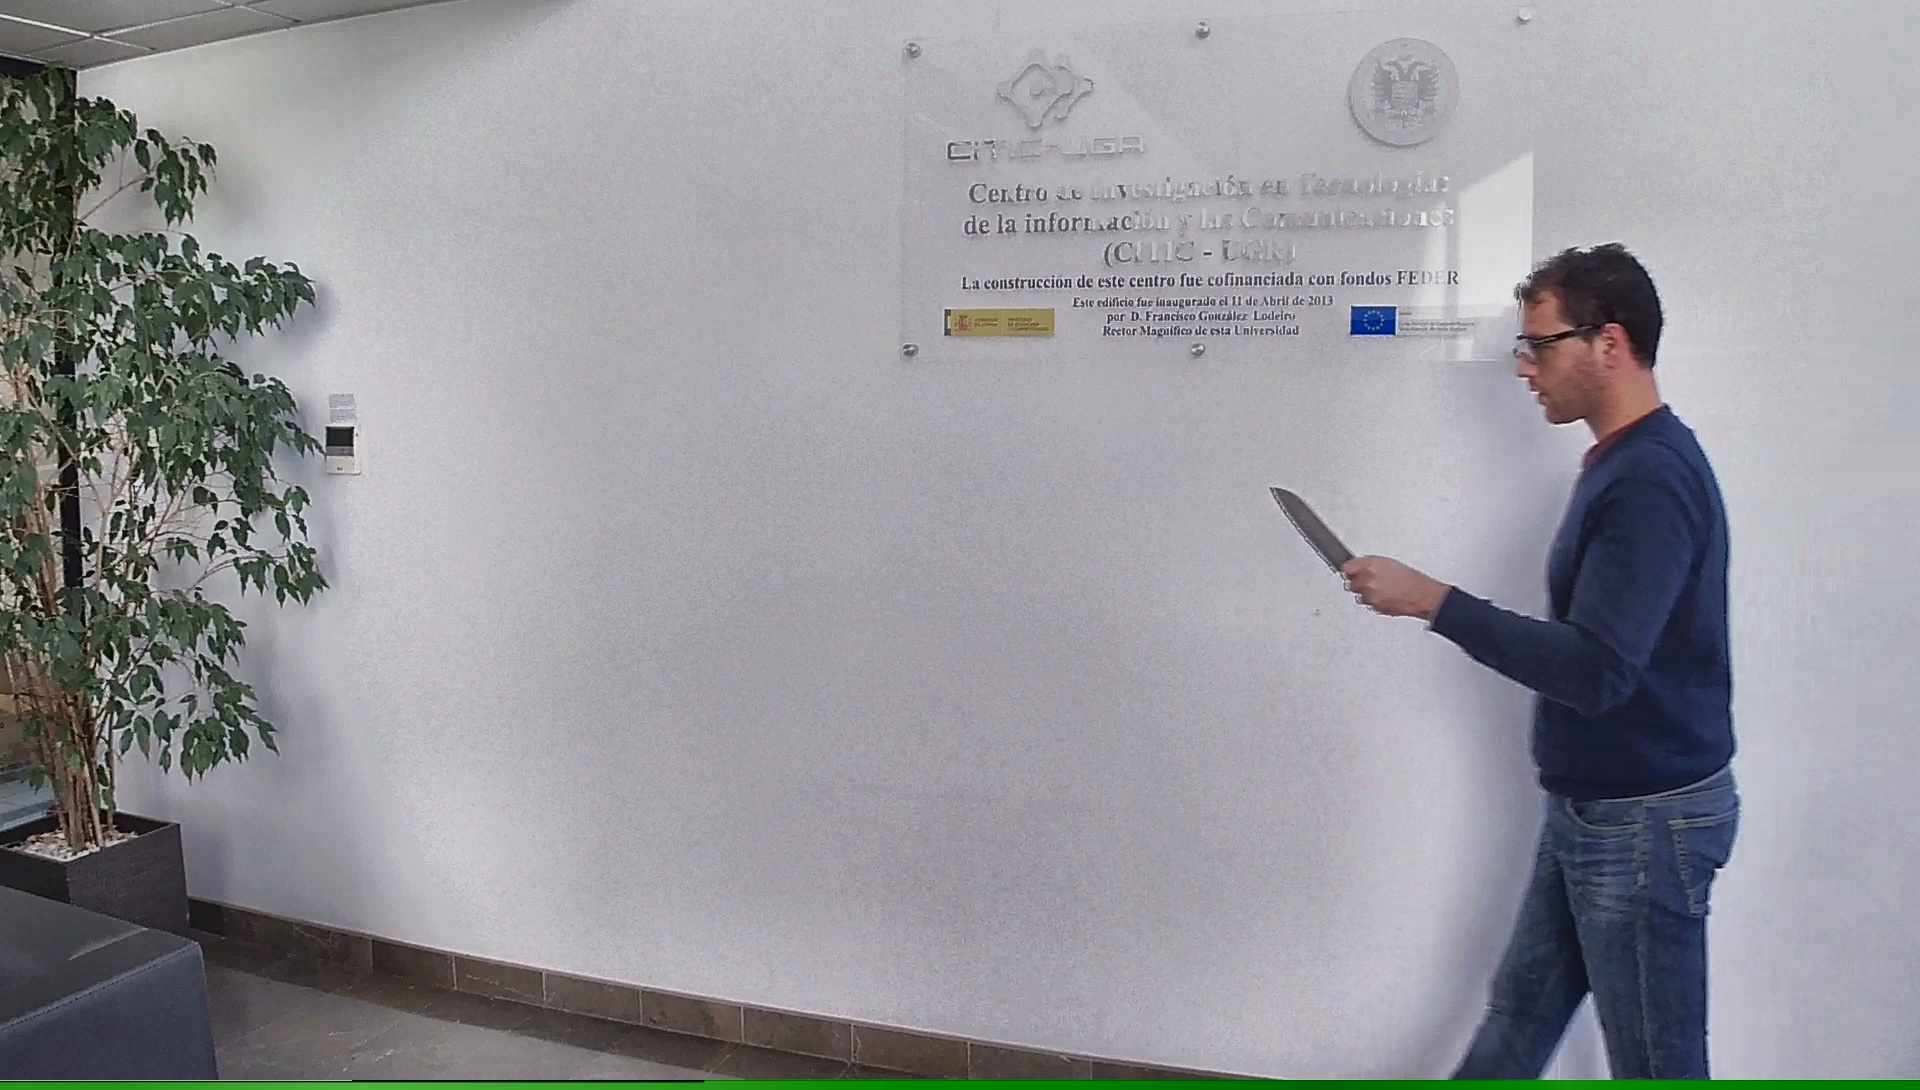knife: (1261, 473, 1381, 597)
